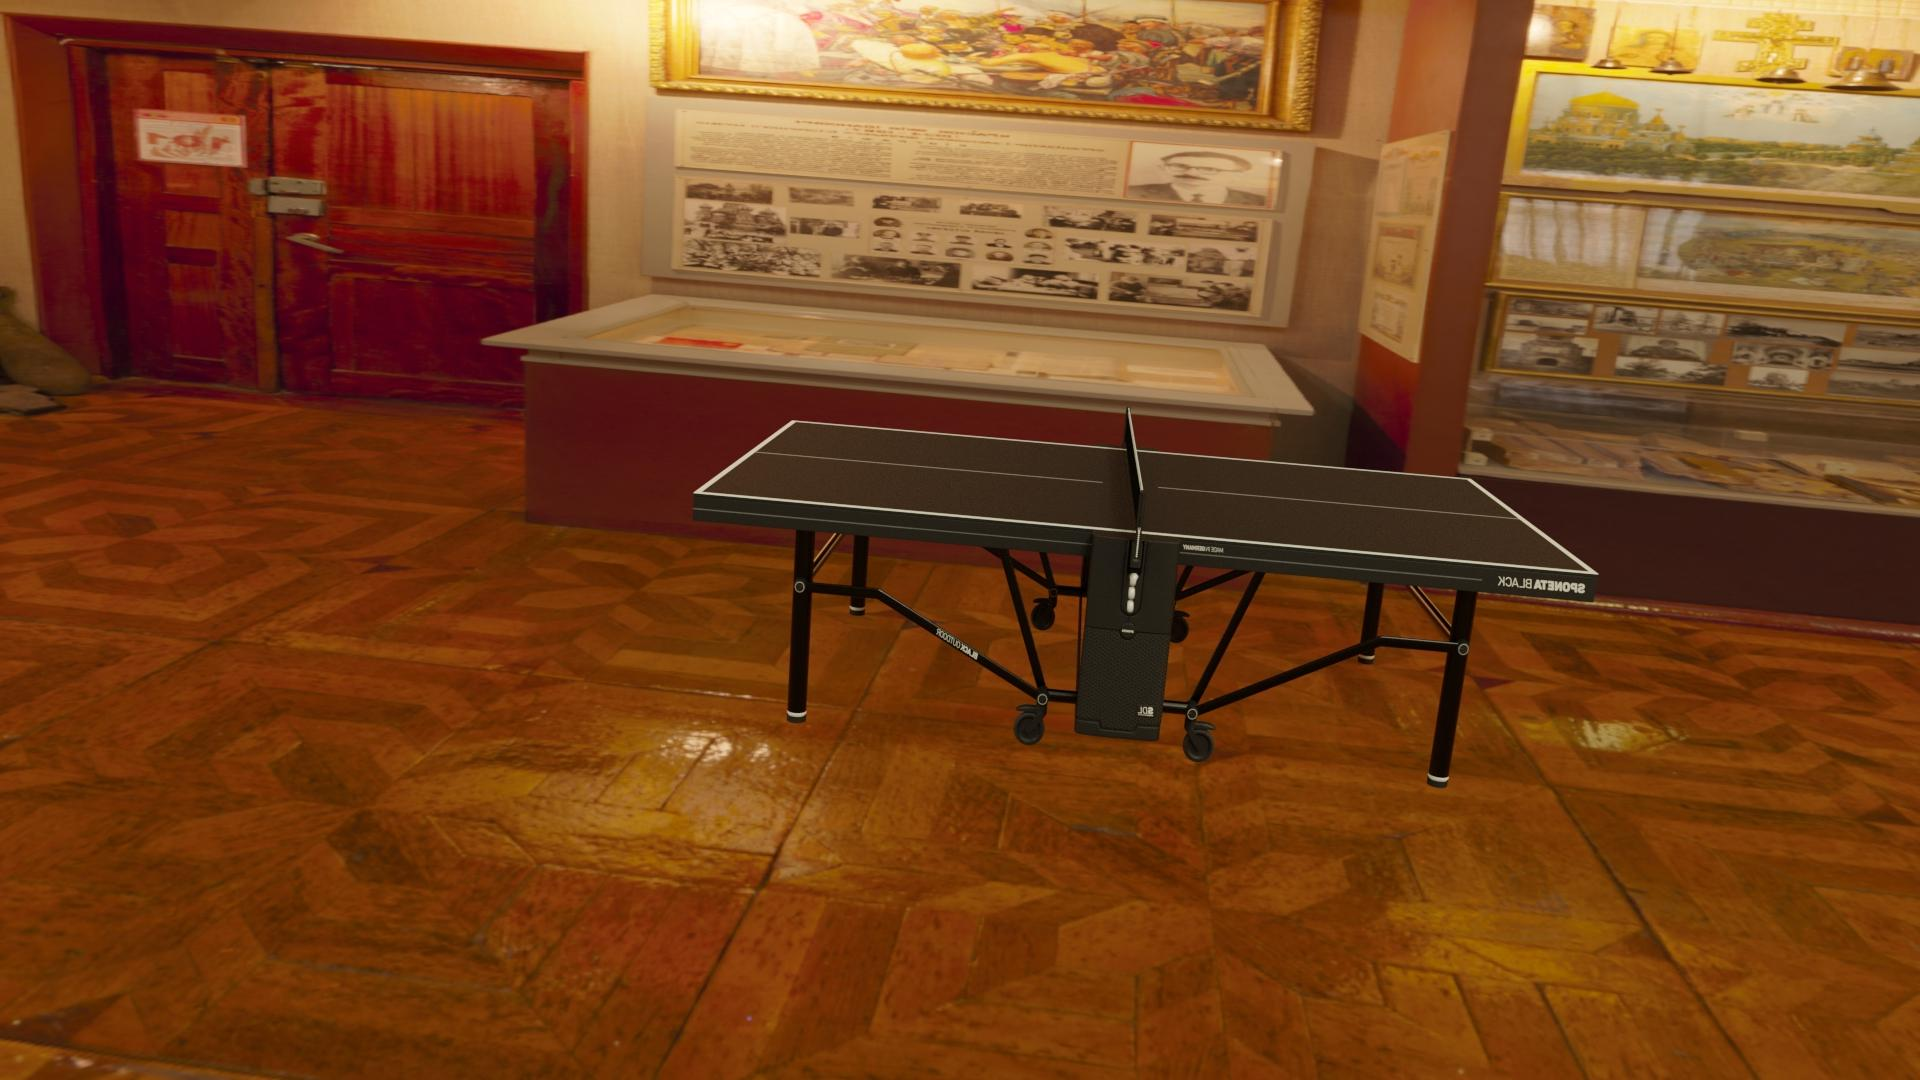table: (702, 422, 1589, 572)
